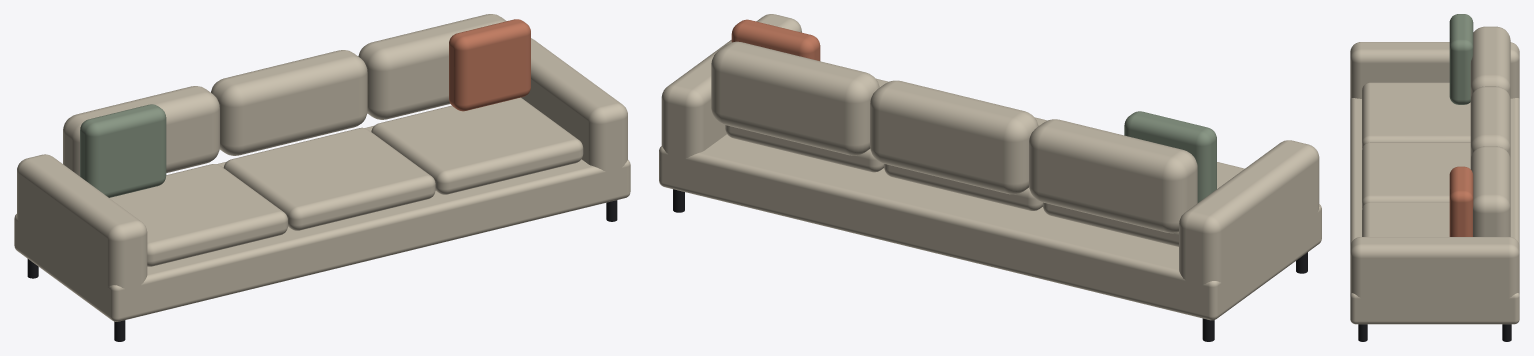
Rendered from sofa_03.gltf.
3 views of the same model, side by side, from view 1: azimuth 30°, elevation 25°; view 2: azimuth 150°, elevation 25°; view 3: azimuth 270°, elevation 25° (orthographic). The views are drawn at different scales.
Parts seen in each view (by area): view 1: sofa_03; view 2: sofa_03; view 3: sofa_03.
Part boxes in pixels (x1,y1,x2,y2): sofa_03: (14,14,630,341); sofa_03: (659,14,1321,341); sofa_03: (1350,14,1519,341).
Size of the model in its own units: 2.73 by 0.84 by 0.93.
